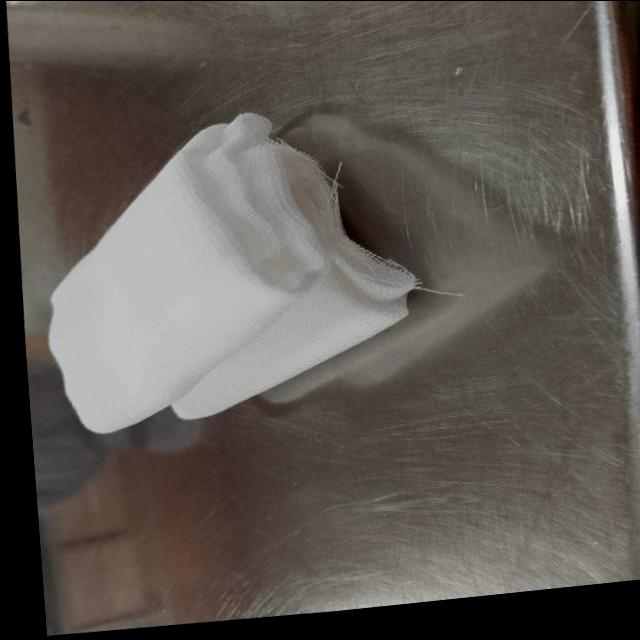General: (6, 1, 638, 635)
Infectious: (45, 109, 434, 434)
